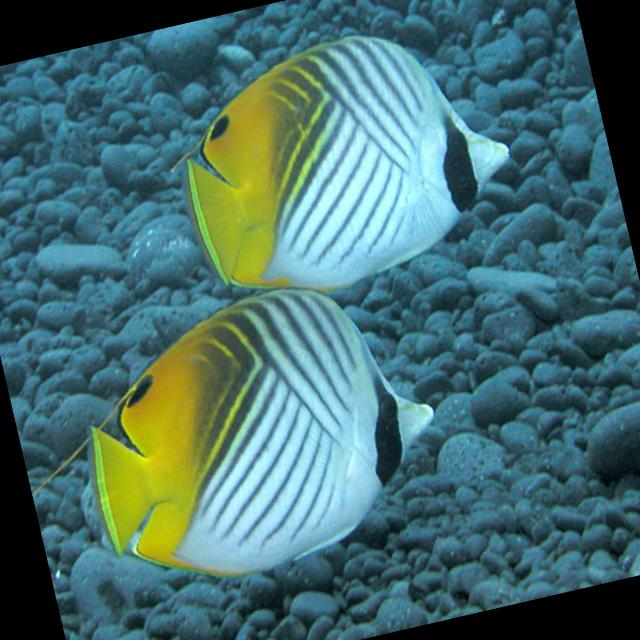ButterflyFish: (68, 260, 458, 600), (160, 2, 523, 296)
